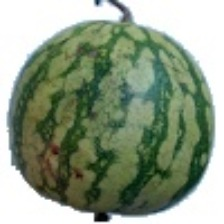watermelon: (9, 36, 200, 193)
